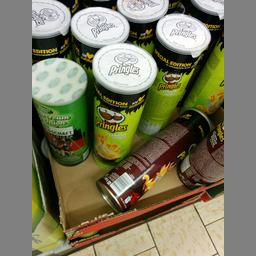chips: (95, 108, 209, 210), (140, 12, 210, 138), (88, 42, 154, 164), (31, 56, 89, 166)
